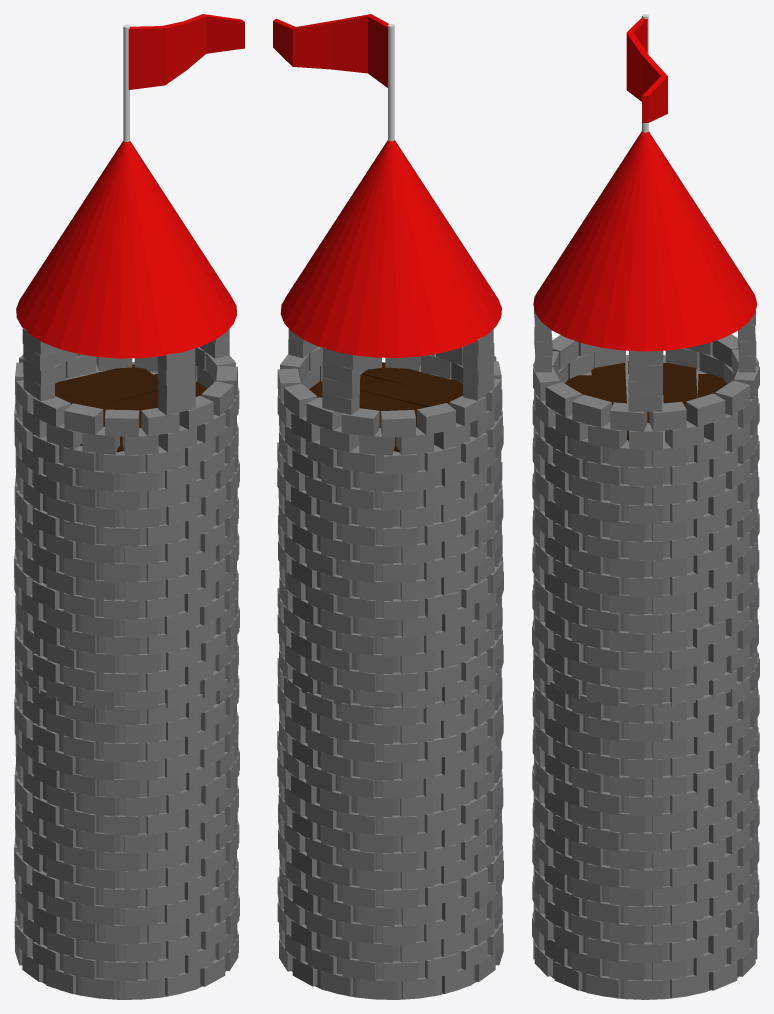
File: Tower.fbx
3 views of the same model, side by side, from view 1: azimuth 30°, elevation 25°; view 2: azimuth 150°, elevation 25°; view 3: azimuth 270°, elevation 25° (orthographic).
Parts seen in each view (by area): view 1: Cube.002, Cone, Cylinder, Cube.001, Cube, Cylinder.001; view 2: Cube.002, Cone, Cylinder, Cube.001, Cube, Cylinder.001; view 3: Cube.002, Cone, Cylinder, Cube, Cube.001.
Boxes of the visible parts, x1,y1,x2,y2 form: Cube.002: [14, 328, 239, 999]; Cone: [16, 141, 237, 358]; Cylinder: [32, 371, 226, 999]; Cube.001: [128, 14, 244, 89]; Cube: [55, 364, 206, 452]; Cylinder.001: [123, 24, 129, 141]; Cube.002: [277, 329, 503, 999]; Cone: [280, 140, 501, 357]; Cylinder: [292, 372, 486, 999]; Cube.001: [273, 14, 388, 87]; Cube: [309, 362, 462, 452]; Cylinder.001: [388, 24, 394, 141]; Cube.002: [532, 296, 759, 999]; Cone: [533, 131, 757, 351]; Cylinder: [544, 364, 739, 999]; Cube: [565, 361, 727, 441]; Cube.001: [626, 18, 667, 122].
Bounding box in the file's own units: 739 × 3051 × 671.
